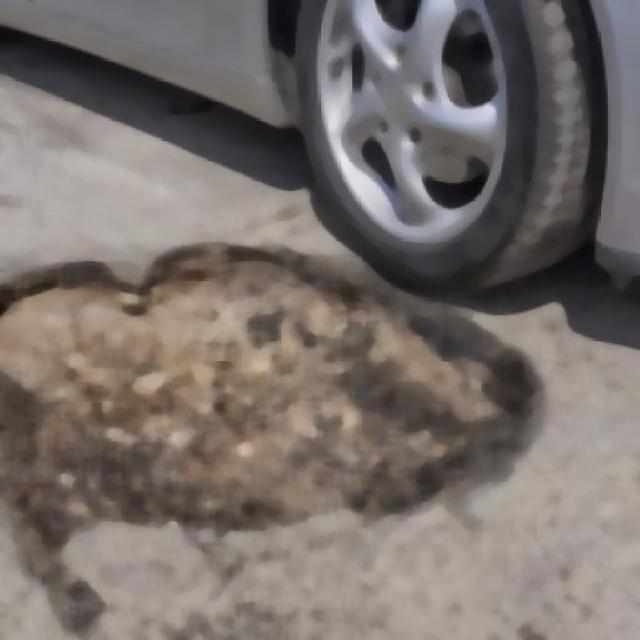Pothole: (2, 243, 521, 526)
